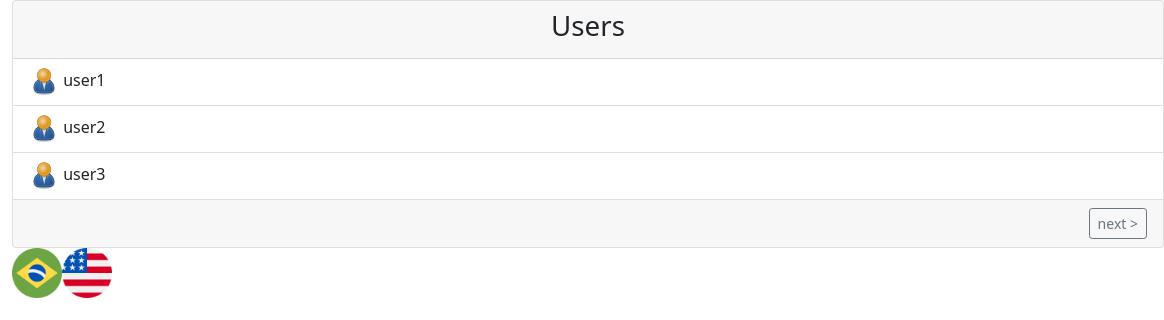
Test: User List › displays spinner after clicking next
The image size is (1164, 320).
Check: the text "user1" is shown, box [29,67,106,97]
Click the button "next >" at (1118, 224), box [1089,208,1147,239]
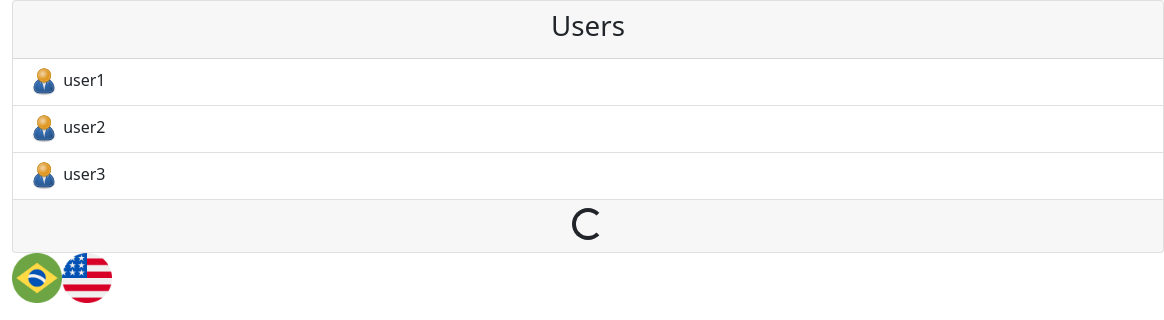
Check: the message is shown, box [572,208,604,240]
